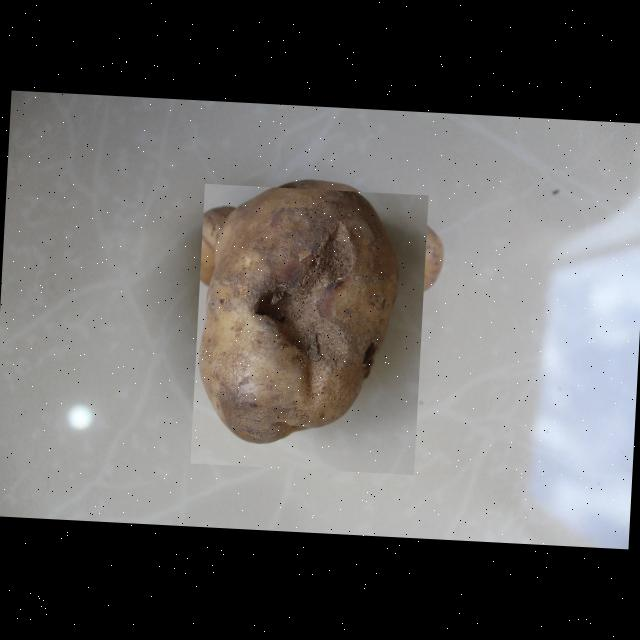Damaged potato: (190, 184, 428, 475)
